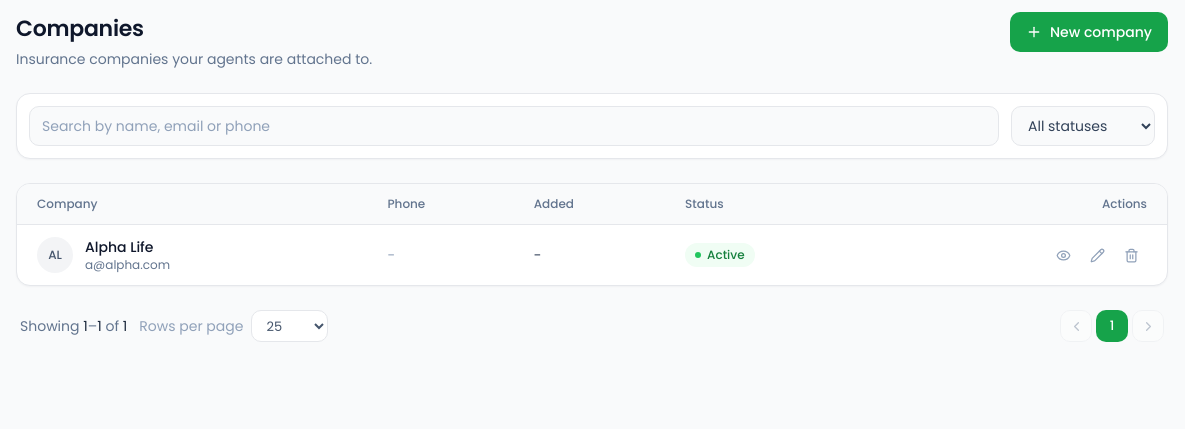
it: CompaniesPage › a refused delete (company still has agents) is shown, not swallowed
Click the button named "delete" at (1131, 255), box left=1115, top=239, right=1147, bottom=271
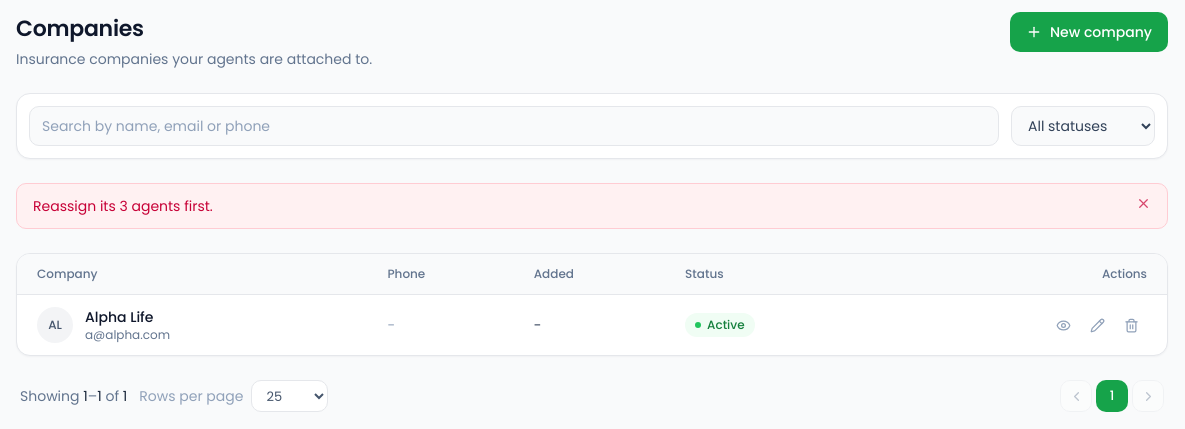
Now the message reads "Reassign its 3 agents first.", box left=33, top=196, right=213, bottom=216
